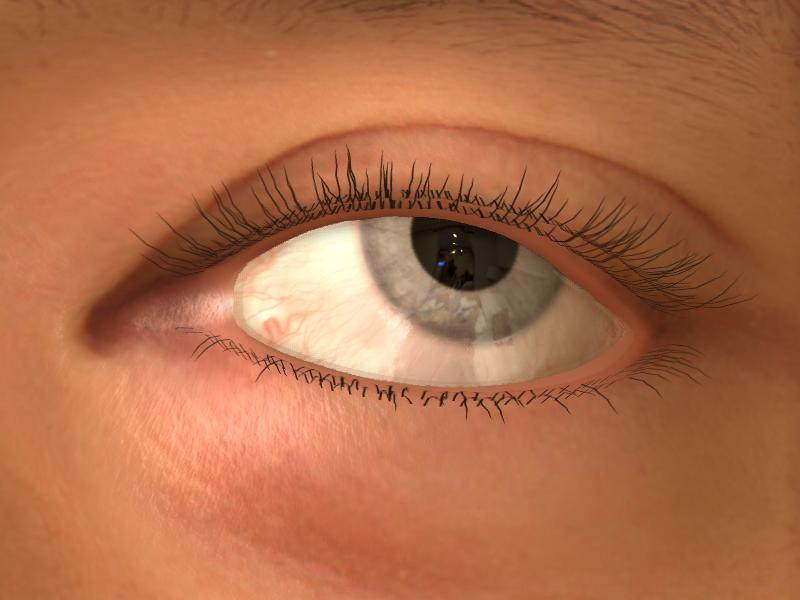eye: (358, 212, 570, 345)
